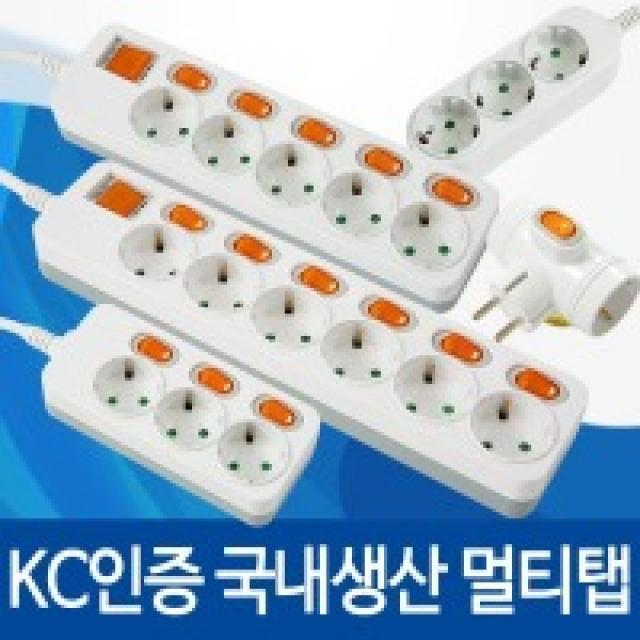typeb: (31, 291, 323, 533), (398, 1, 606, 154)
